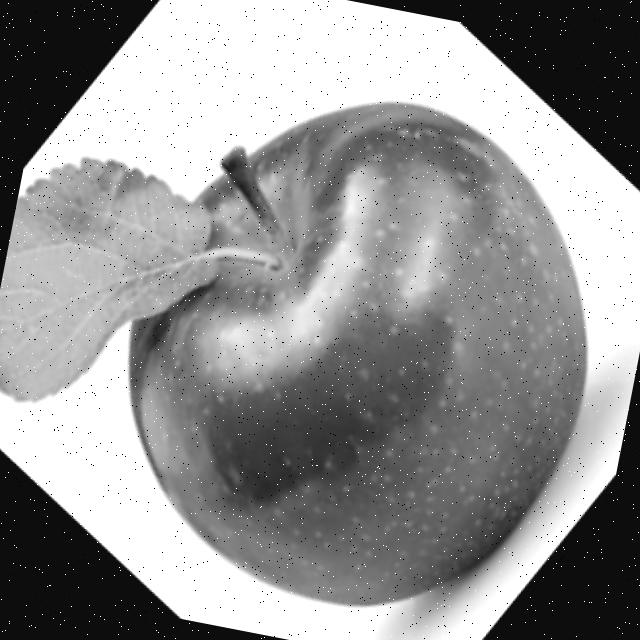Ripe: (75, 46, 640, 640)
